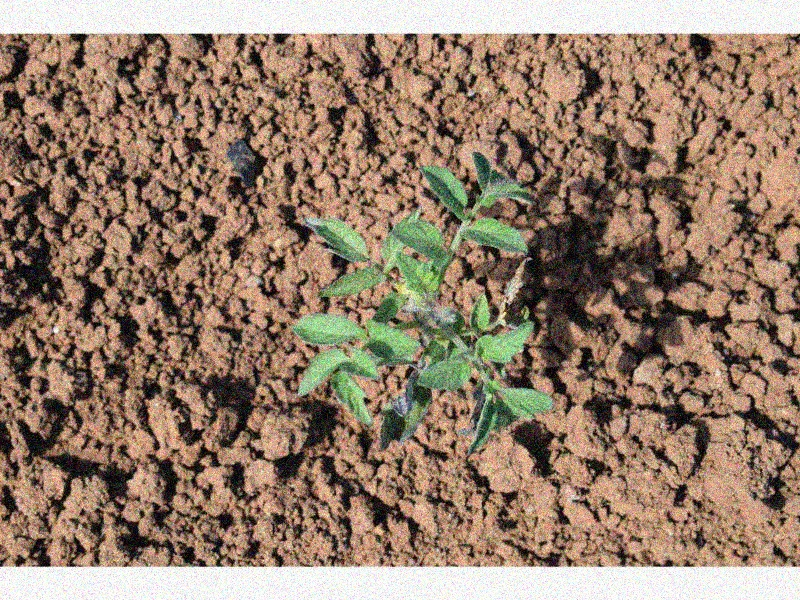tomato: (292, 149, 552, 458)
